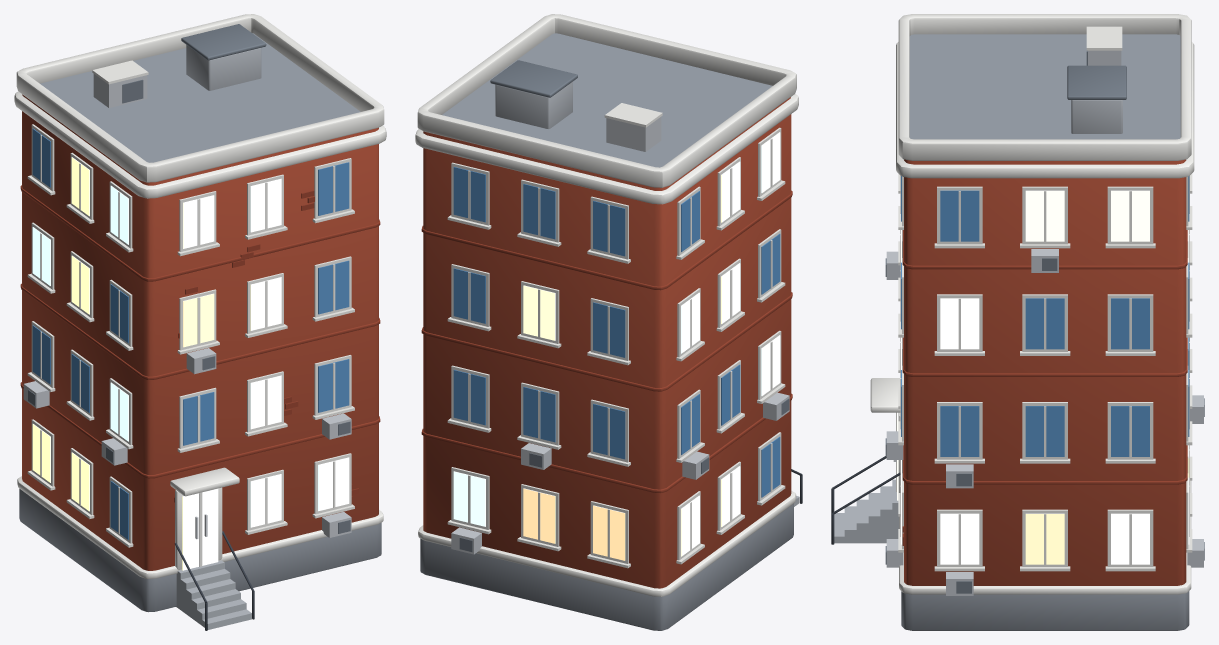
The model's file is apto_tijolo_pequeno.glb.
3 renders of one model, left to right at view 1: azimuth 30°, elevation 25°; view 2: azimuth 150°, elevation 25°; view 3: azimuth 270°, elevation 25°, orthographic. The views are drawn at different scales.
Parts seen in each view (by area): view 1: apto_tijolo_pequeno; view 2: apto_tijolo_pequeno; view 3: apto_tijolo_pequeno.
Boxes of the visible parts, <box> form: apto_tijolo_pequeno: <box>14,14,386,630</box>; apto_tijolo_pequeno: <box>415,14,802,630</box>; apto_tijolo_pequeno: <box>831,14,1204,630</box>.
Bounding box in the file's own units: 8.99 × 15.22 × 10.06.
6 materials, 1 textured.
